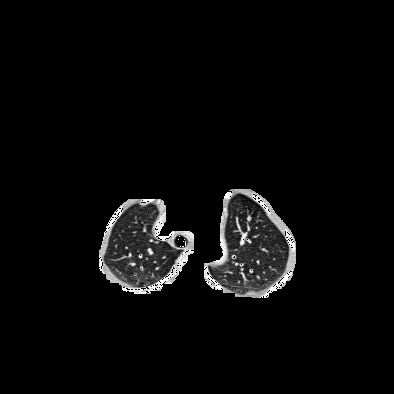PN: (247, 216, 251, 220)
